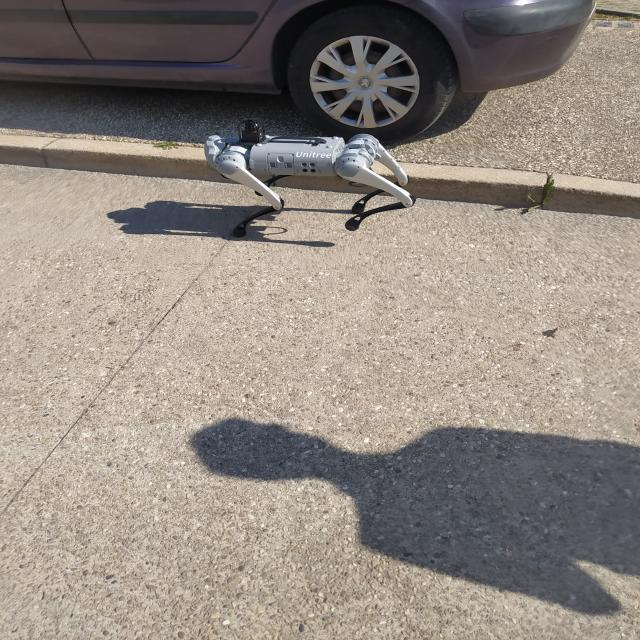unitree-go1-robot: (195, 108, 435, 253)
